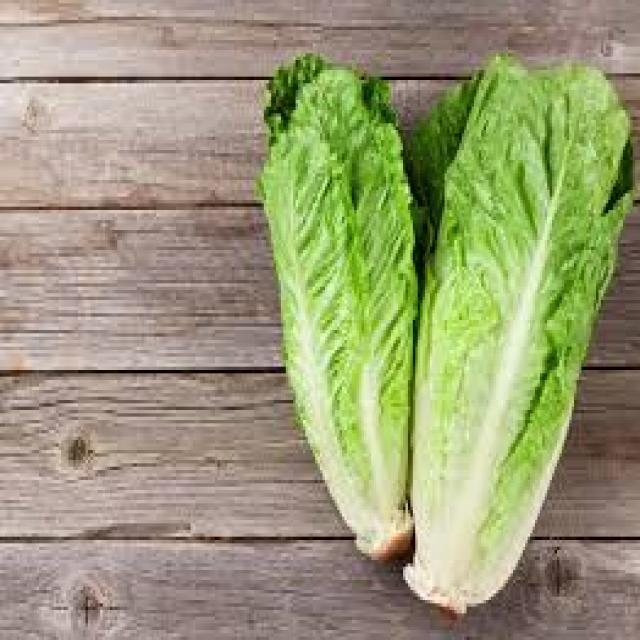Lettuce: (403, 53, 633, 617), (262, 53, 414, 560)
